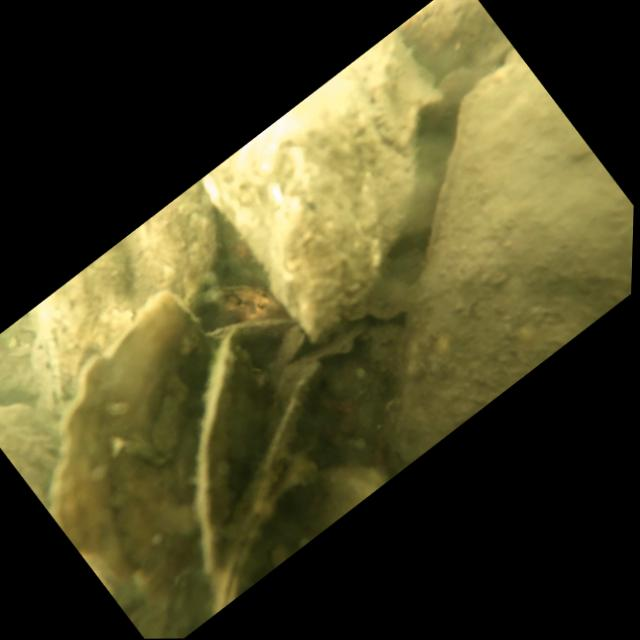Oyster-Closed: (230, 45, 639, 475), (187, 27, 525, 350)
Oyster-Indeterminate: (0, 280, 333, 632), (174, 428, 392, 615)
Oyster-Open: (98, 298, 399, 592), (175, 250, 304, 378)
